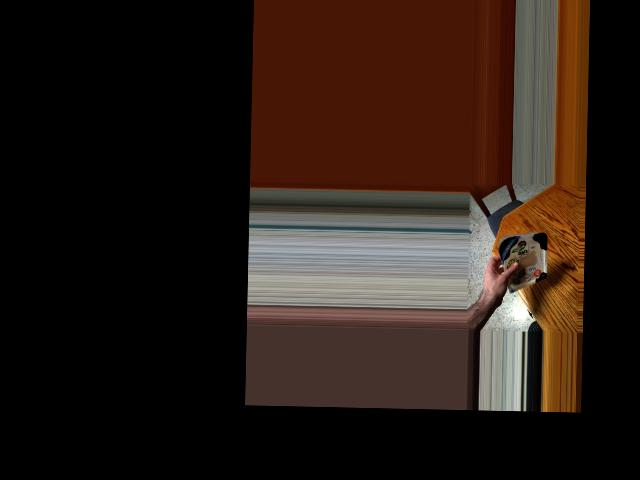cheese: (505, 230, 543, 289)
